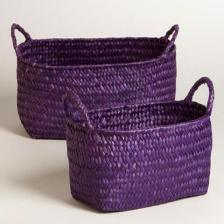purple: (63, 77, 215, 212), (11, 24, 179, 139)
